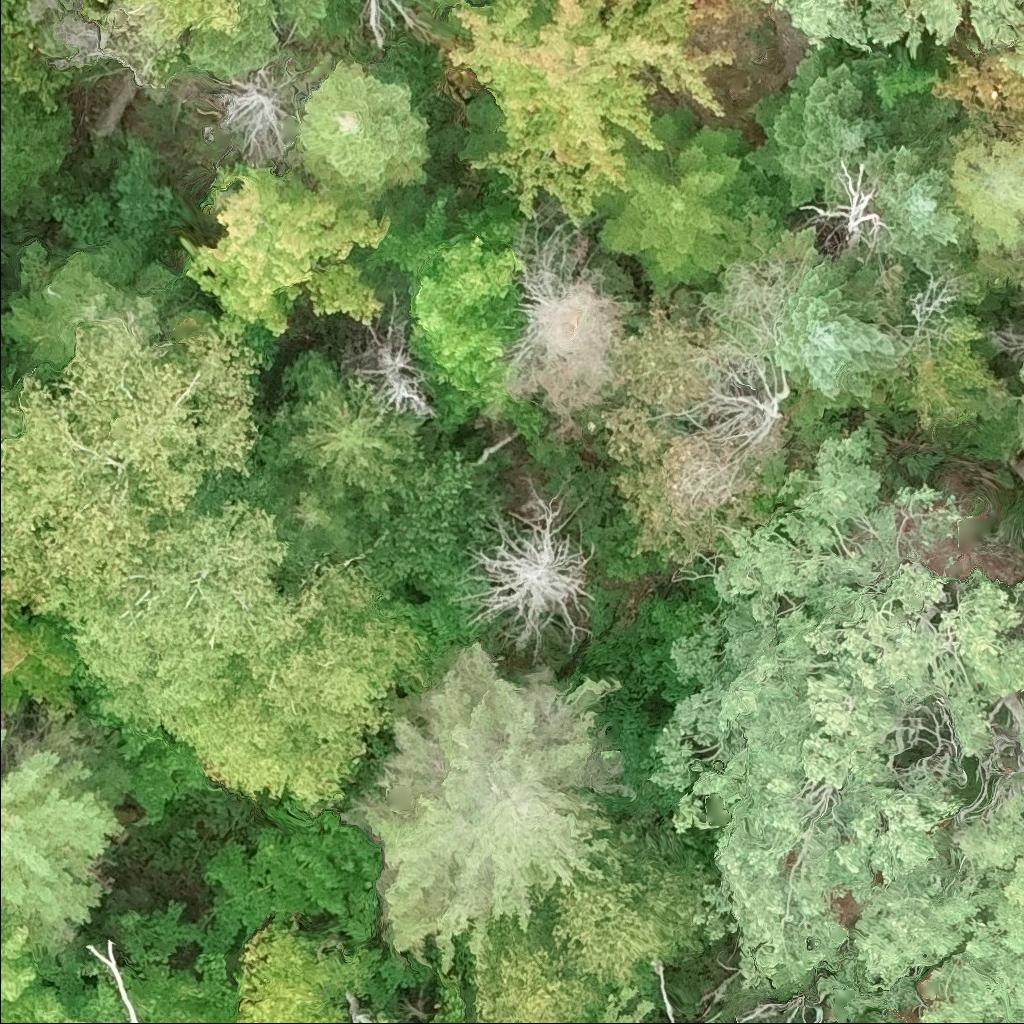crown: (646, 425, 1023, 1023), (351, 643, 636, 974), (0, 280, 263, 625), (443, 0, 735, 230), (165, 559, 426, 809), (65, 508, 301, 756), (180, 161, 388, 337), (592, 109, 780, 285), (546, 836, 717, 998), (743, 48, 890, 218), (282, 350, 433, 497), (411, 218, 530, 400), (0, 748, 123, 923), (471, 479, 596, 651), (774, 252, 901, 401), (516, 265, 633, 420), (302, 59, 429, 195), (763, 0, 1023, 58), (118, 907, 246, 1023), (471, 932, 614, 1023), (235, 927, 368, 1023), (879, 143, 972, 279), (183, 0, 331, 82), (350, 302, 435, 427), (946, 124, 1023, 257), (206, 72, 309, 169), (0, 602, 84, 720), (800, 149, 892, 252), (0, 89, 72, 207), (88, 0, 250, 48), (937, 54, 1023, 144), (0, 929, 69, 1023), (85, 933, 143, 1023), (701, 988, 832, 1023), (366, 0, 432, 51), (689, 0, 764, 36), (605, 988, 652, 1023), (422, 0, 481, 12), (70, 1019, 110, 1023), (0, 728, 5, 753), (0, 607, 8, 622)
